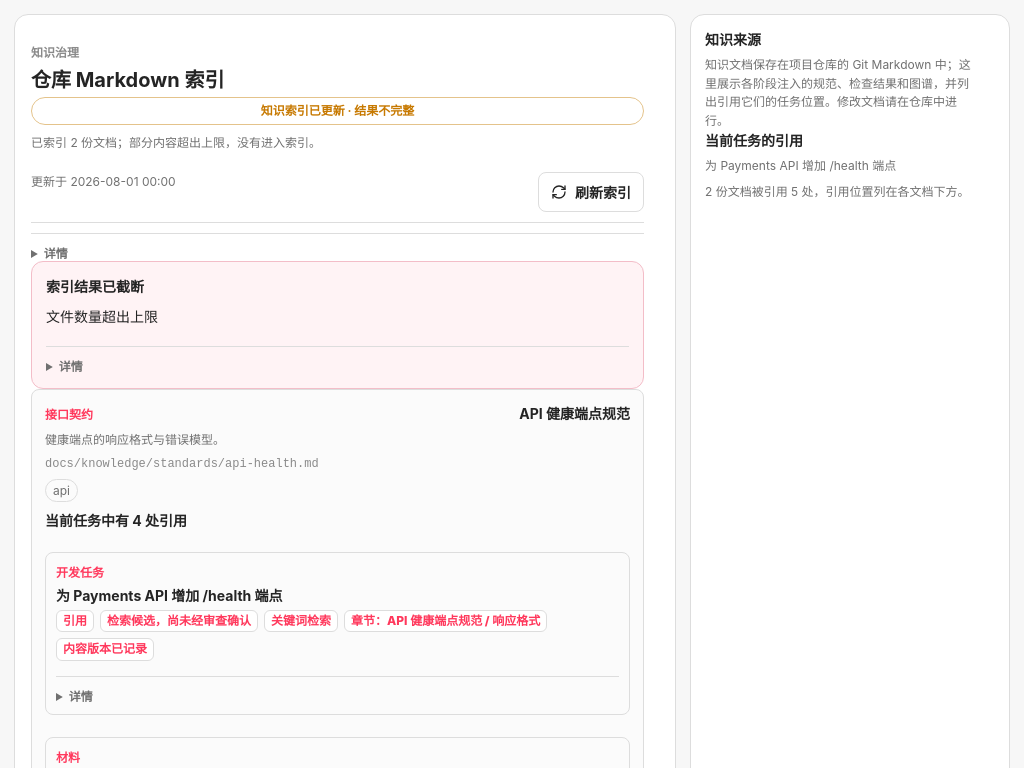
Scenario: KnowledgeView › keeps hashes, retrieval scores and ids in 详情 only
The width and height of the screenshot is (1024, 768).
Expected: the text "kh-aaa111" below "docs/knowledge/standards/api-health.md" is shown, [56,676,619,704]
Note: The raw values stay reachable for copying.
Step 1. Click the heading "详情" below "docs/knowledge/standards/api-health.md" → (81, 696), box [69,689,93,704]
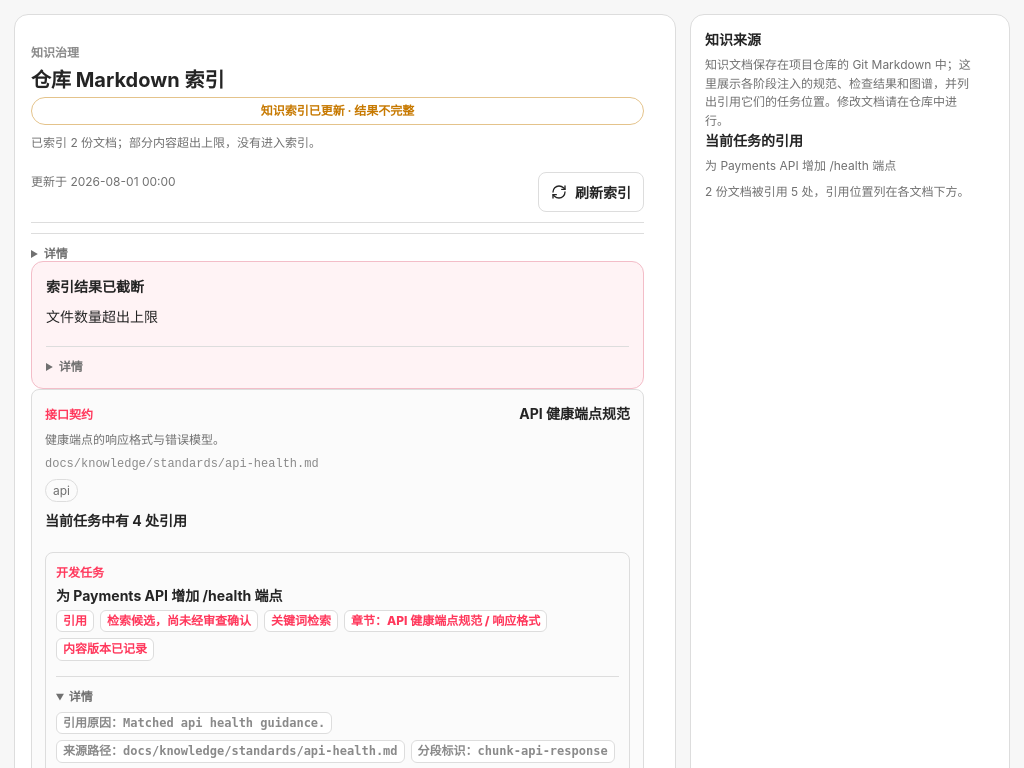
Expected: the text "来源路径：docs/knowledge/standards/api-health.md" is shown, [56,740,405,763]
